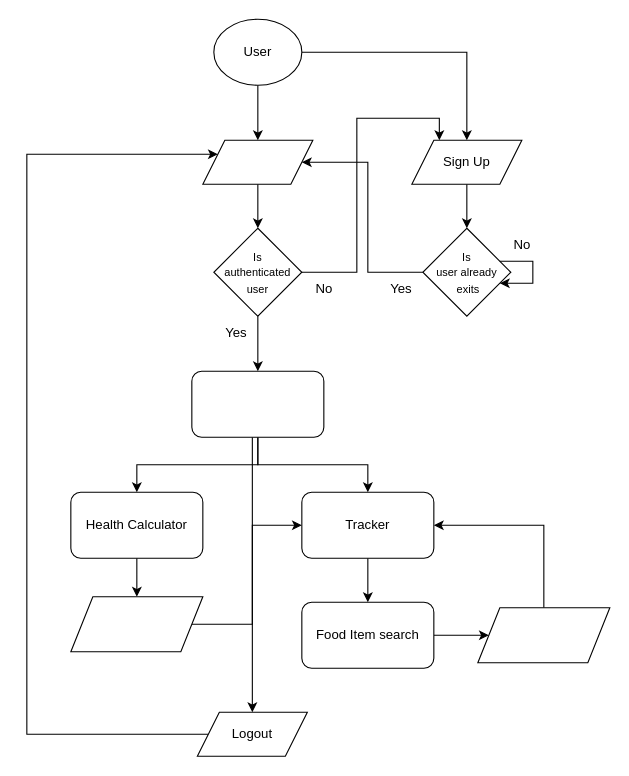
Image size: 629x776. Some labels were removed from this diagram. The shapes that lost their labels are listed below. From the top down, each one's box as (x1, y1, x2, y2) in pixels, then its label:
(202, 139, 313, 184): Login
(191, 370, 324, 437): Dashboard
(70, 596, 203, 652): Calculate calorie Target
(477, 607, 610, 663): Add food Items
